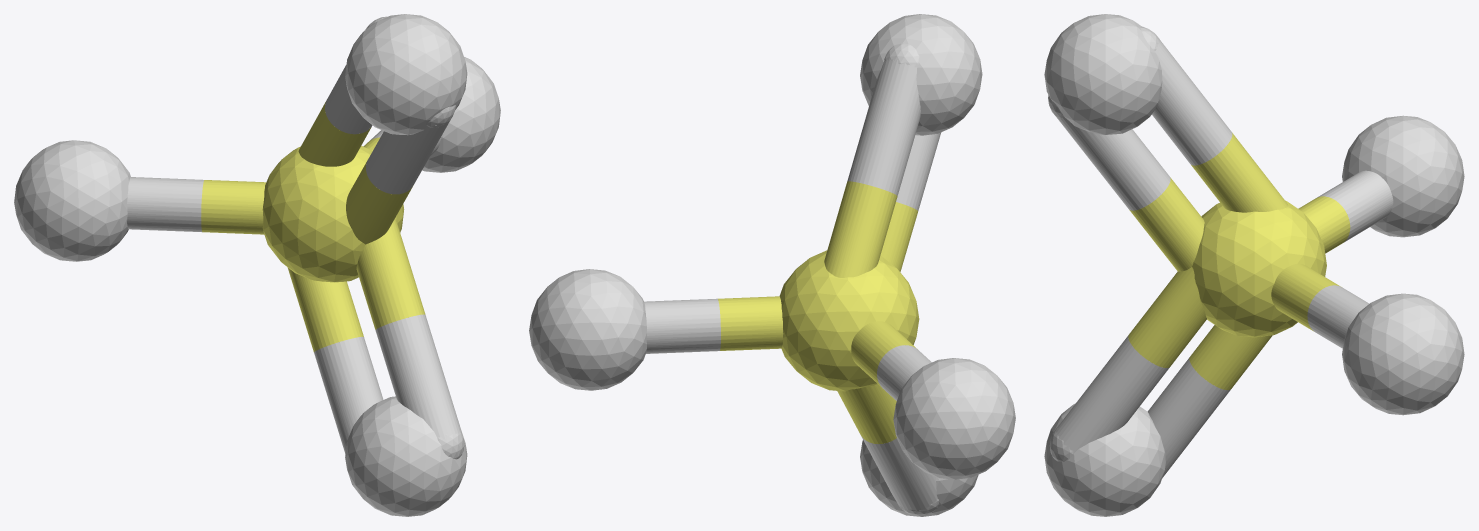
Rendered from SulfateJoined.dae.
The picture shows the model from 3 angles, left to right: view 1: azimuth 30°, elevation 25°; view 2: azimuth 150°, elevation 25°; view 3: azimuth 270°, elevation 25°; orthographic projection.
Parts seen in each view (by area): view 1: Shape_IndexedFaceSet_026, Shape_IndexedFaceSet_009; view 2: Shape_IndexedFaceSet_026, Shape_IndexedFaceSet_009; view 3: Shape_IndexedFaceSet_026, Shape_IndexedFaceSet_009.
Boxes of the visible parts, x1=… form: Shape_IndexedFaceSet_026: x1=14, y1=14, x2=500, y2=516; Shape_IndexedFaceSet_009: x1=201, y1=102, x2=425, y2=351; Shape_IndexedFaceSet_026: x1=529, y1=14, x2=1015, y2=516; Shape_IndexedFaceSet_009: x1=718, y1=181, x2=919, y2=444; Shape_IndexedFaceSet_026: x1=1044, y1=14, x2=1464, y2=516; Shape_IndexedFaceSet_009: x1=1128, y1=132, x2=1350, y2=390.
Bounding box in the file's own units: 31.03 × 23.99 × 31.03.
